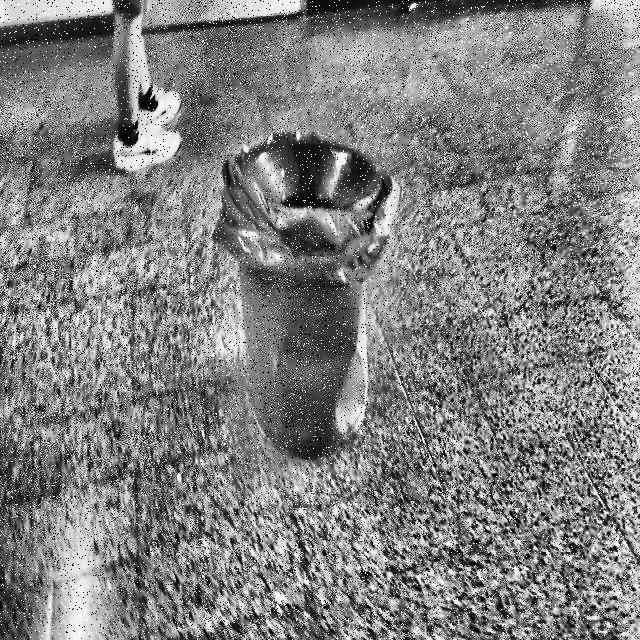Dustbin: (185, 122, 409, 494)
